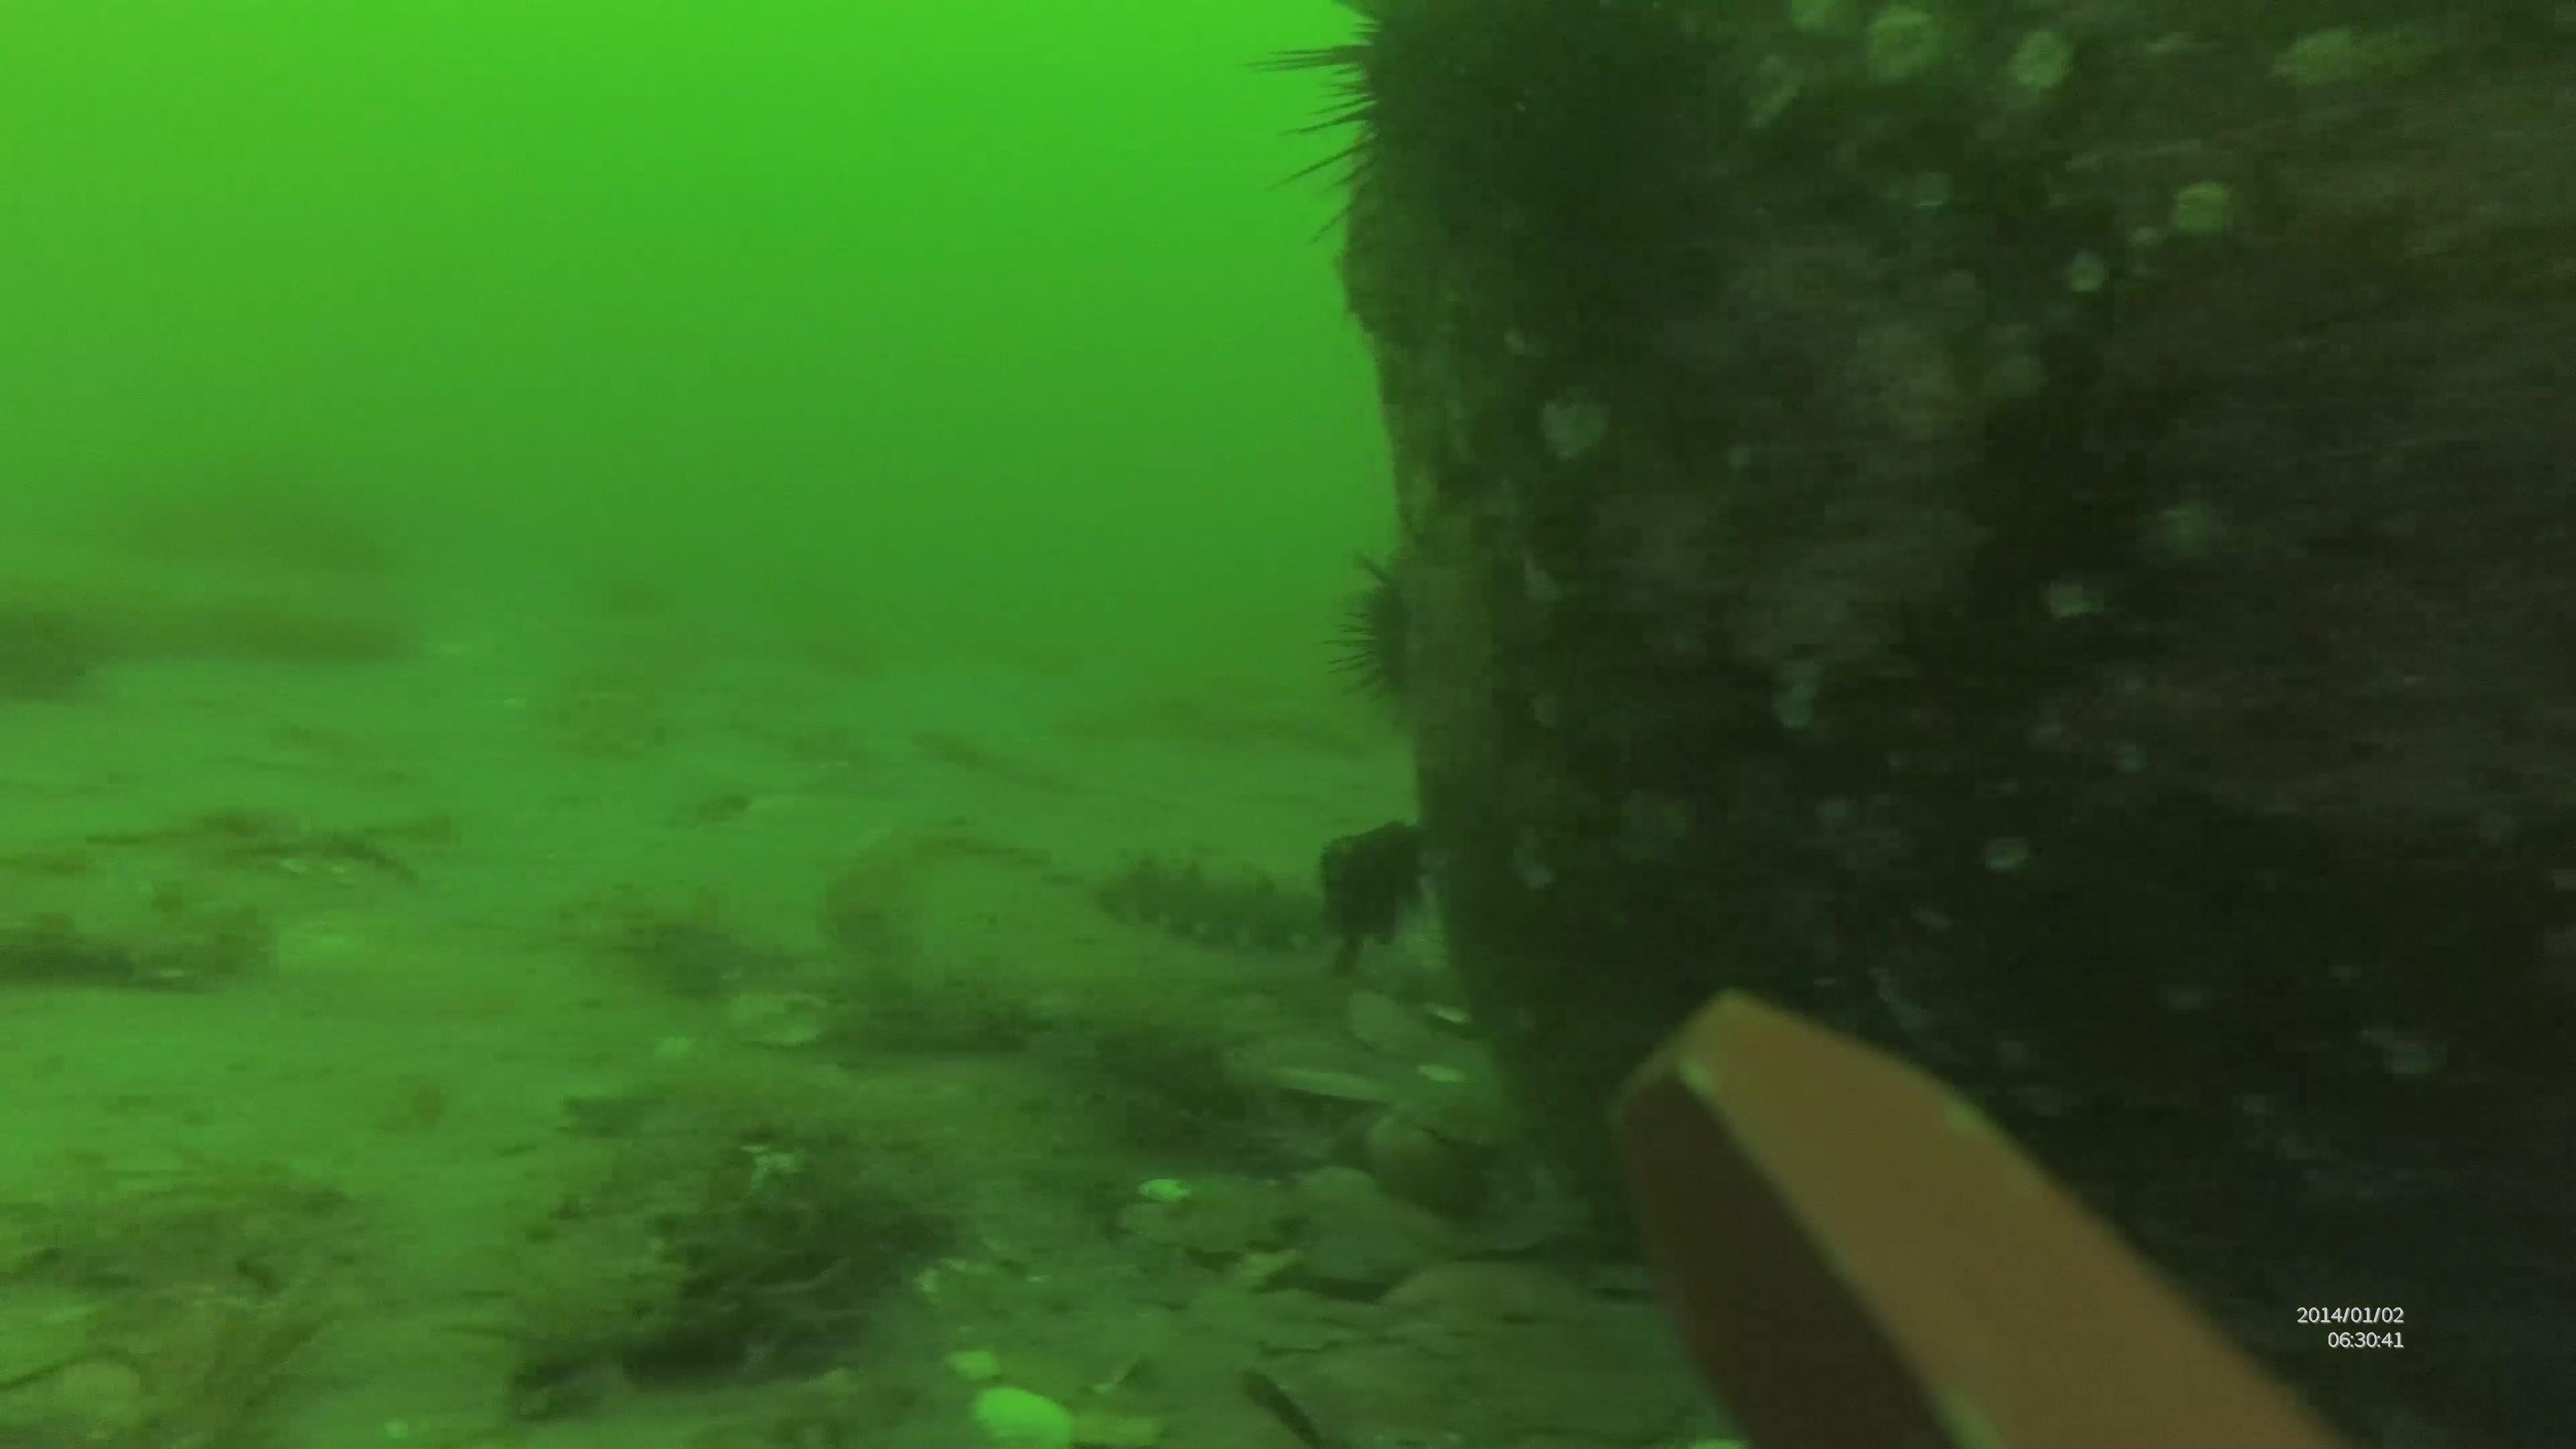echinus: (1263, 4, 1721, 324), (1323, 557, 1437, 731), (1316, 819, 1438, 957)
holothurian: (1099, 853, 1352, 950)
scallop: (970, 1378, 1074, 1449)
